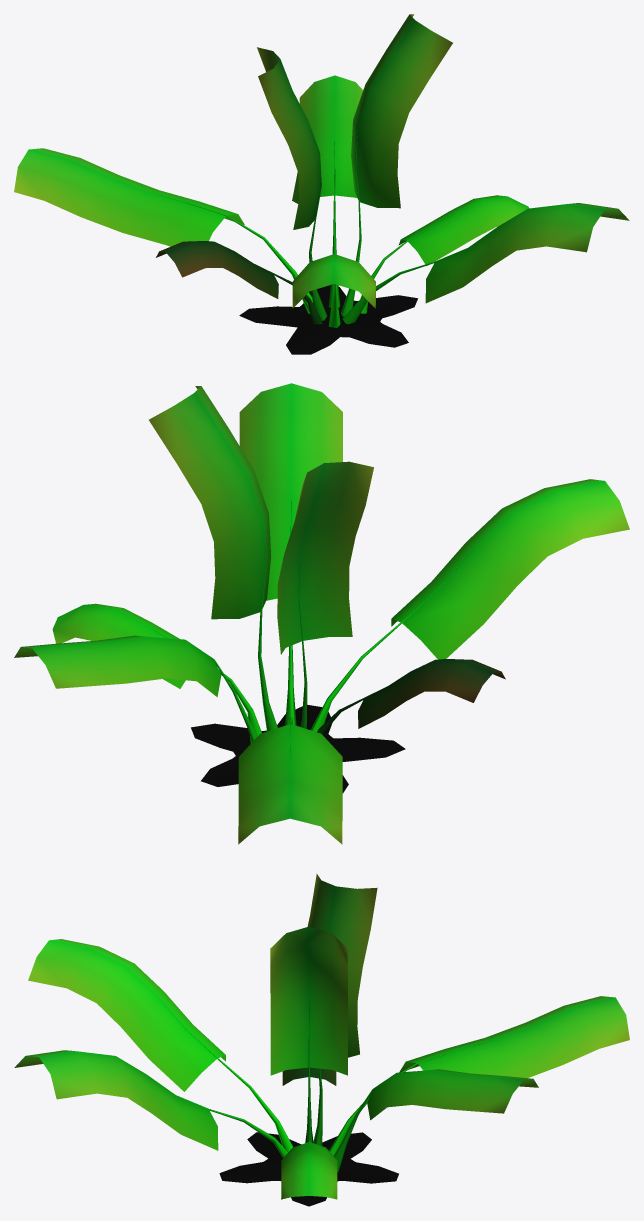
The model's file is Fern 1.fbx.
3 renders of one model, top to bottom at view 1: azimuth 30°, elevation 25°; view 2: azimuth 150°, elevation 25°; view 3: azimuth 270°, elevation 25°, orthographic. The views are drawn at different scales.
Parts seen in each view (by area): view 1: _0; view 2: _0; view 3: _0.
Part boxes in pixels (box(x1,y1,x2,y2)): _0: box(14, 14, 629, 354); _0: box(14, 383, 629, 844); _0: box(14, 873, 629, 1206).
Bounding box in the file's own units: 3.33 × 2.34 × 1.68.
